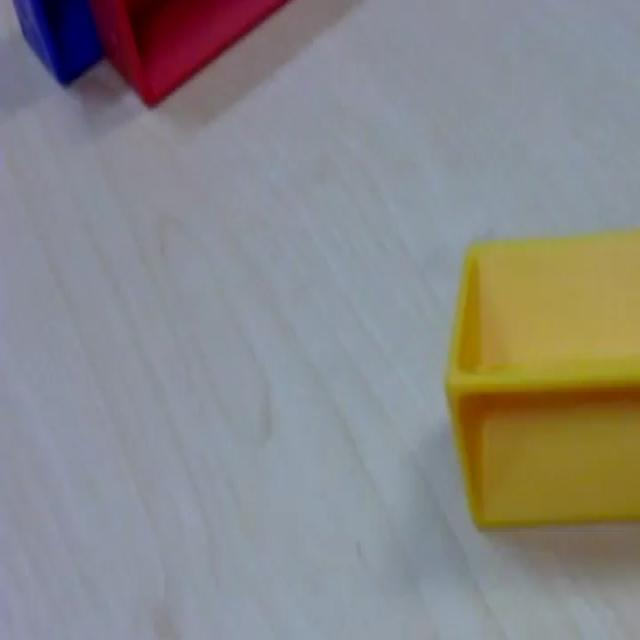yellow_block: (444, 225, 638, 531)
